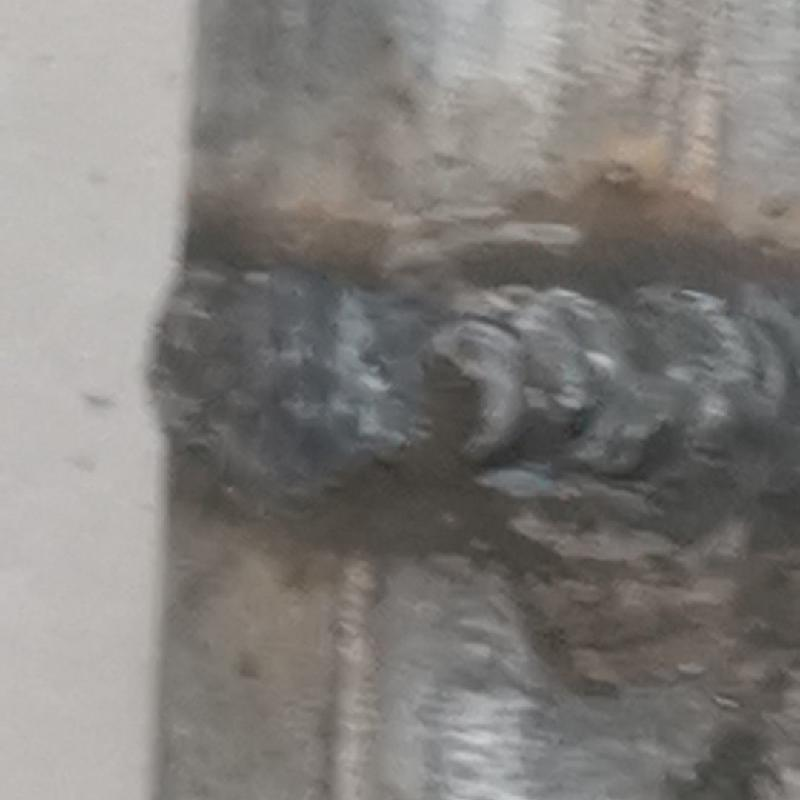good: (147, 237, 798, 494)
